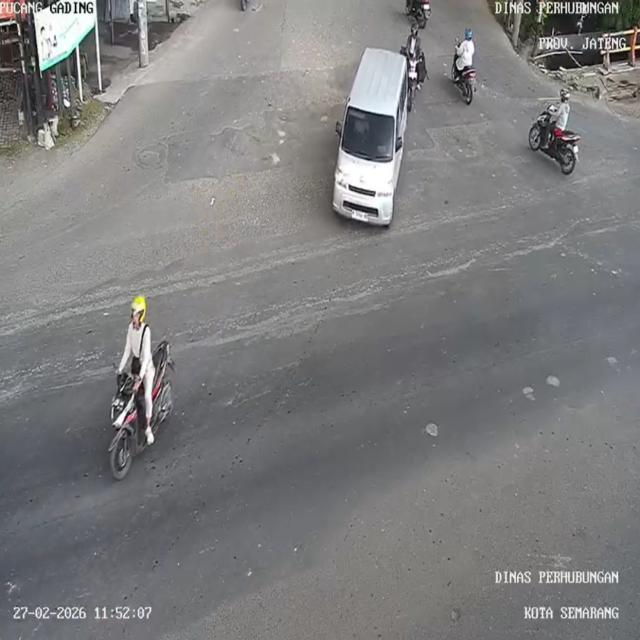motorcycle: (110, 340, 176, 480), (527, 111, 583, 177), (451, 57, 482, 106), (405, 50, 428, 111), (400, 0, 439, 29)
person: (122, 292, 159, 448), (452, 31, 480, 80), (552, 85, 572, 139), (403, 22, 424, 56)
rider_region: (106, 292, 179, 484), (526, 84, 582, 179), (449, 28, 480, 109), (402, 22, 425, 112)
